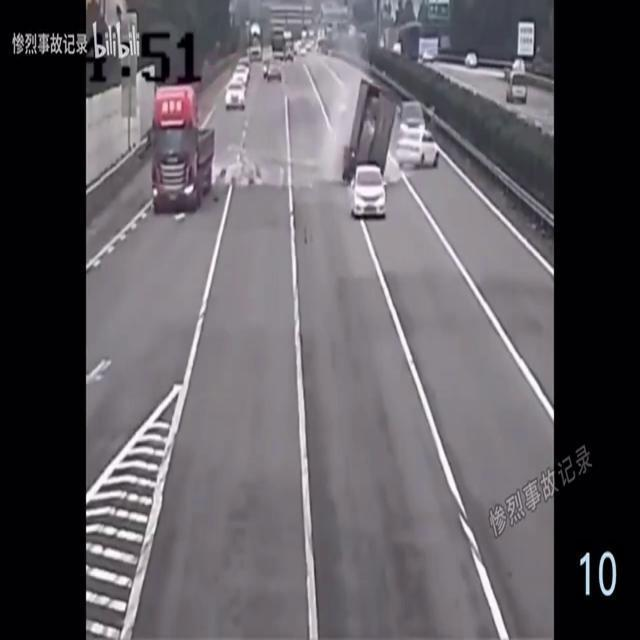accident: (344, 85, 398, 182)
non-accident: (398, 101, 438, 167), (223, 59, 249, 108)
